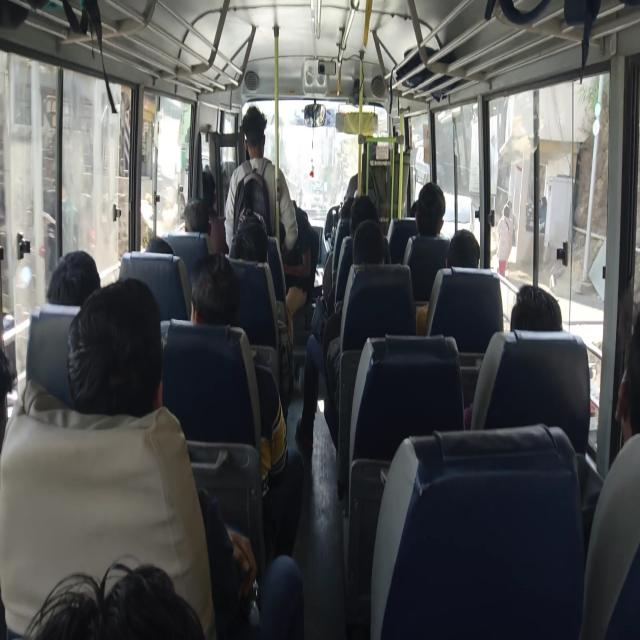person: (33, 565, 205, 640), (84, 291, 184, 413), (35, 244, 98, 316), (611, 324, 640, 479), (198, 258, 252, 333), (516, 296, 586, 341), (286, 193, 316, 294), (136, 229, 190, 279), (421, 181, 452, 232), (240, 112, 271, 154), (224, 228, 274, 254), (447, 238, 483, 271), (179, 198, 213, 230), (350, 235, 384, 266), (342, 203, 378, 230), (409, 201, 420, 223)
